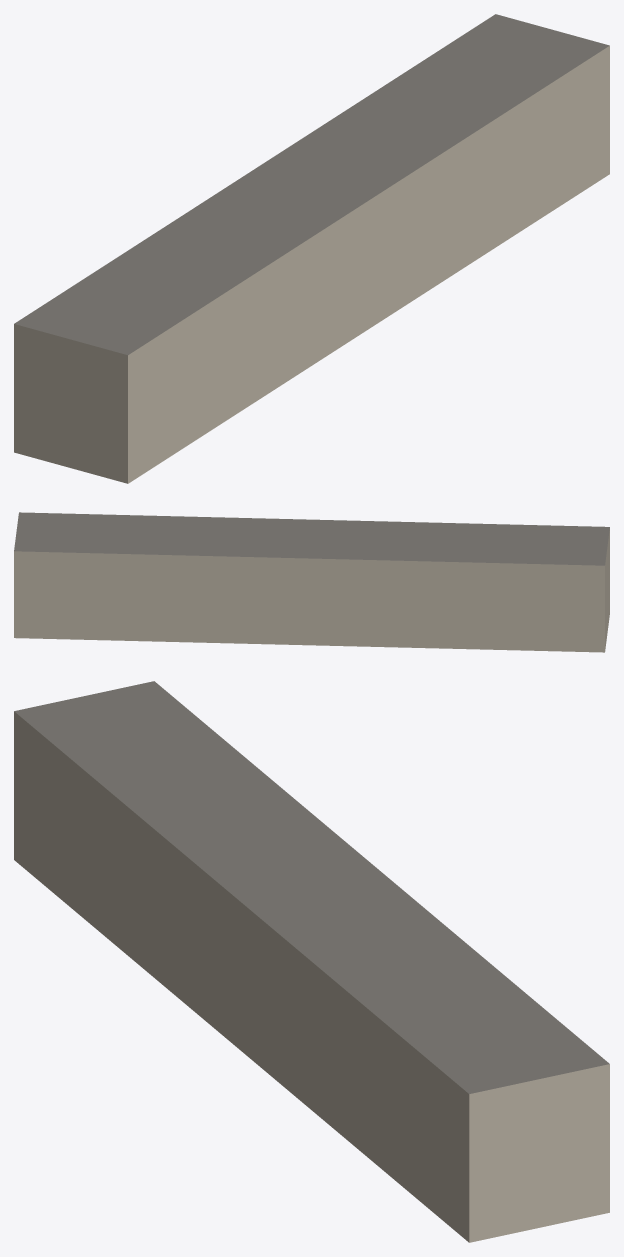
The picture shows the model from 3 angles, top to bottom: view 1: azimuth 30°, elevation 25°; view 2: azimuth 150°, elevation 25°; view 3: azimuth 270°, elevation 25°; orthographic projection. The views are drawn at different scales.
Parts seen in each view (by area): view 1: HP-w494956475; view 2: HP-w494956475; view 3: HP-w494956475.
Part boxes in pixels (bbox=[...]): HP-w494956475: bbox=[14, 14, 609, 483]; HP-w494956475: bbox=[14, 512, 609, 652]; HP-w494956475: bbox=[14, 681, 609, 1242].
Bounding box in the file's own units: 71.48 × 12 × 43.58.
